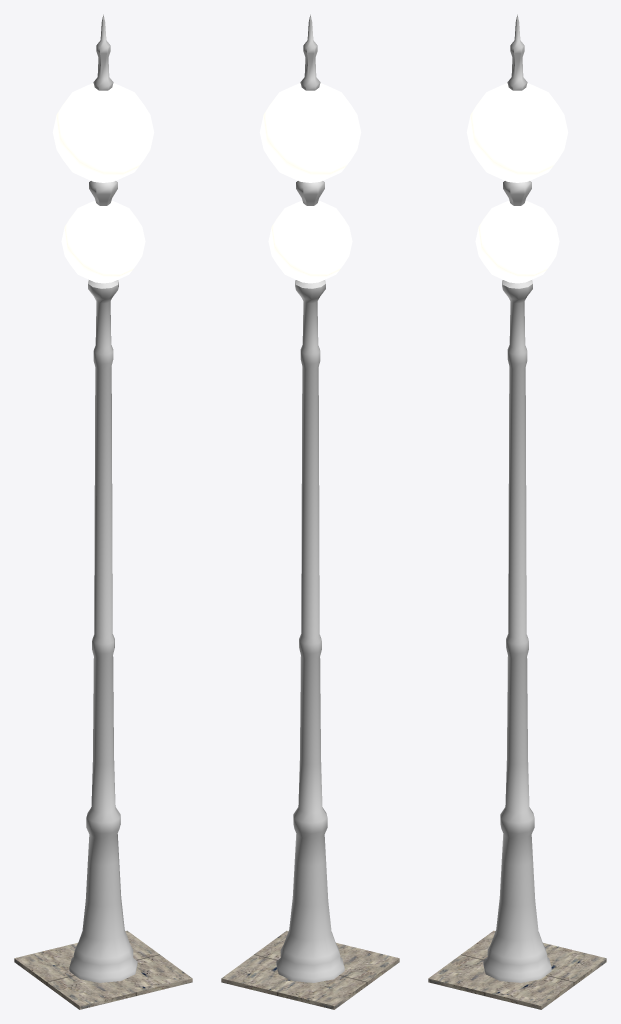
Rendered from SM_Molo_Lampione2Globi_LOD1.fbx.
3 renders of one model, left to right at view 1: azimuth 30°, elevation 25°; view 2: azimuth 150°, elevation 25°; view 3: azimuth 330°, elevation 25°, orthographic.
Parts seen in each view (by area): view 1: SM_Molo_Lampione2Globi_LOD1; view 2: SM_Molo_Lampione2Globi_LOD1; view 3: SM_Molo_Lampione2Globi_LOD1.
Boxes of the visible parts, bbox=[...] form: SM_Molo_Lampione2Globi_LOD1: bbox=[14, 14, 192, 1009]; SM_Molo_Lampione2Globi_LOD1: bbox=[221, 14, 399, 1009]; SM_Molo_Lampione2Globi_LOD1: bbox=[428, 14, 606, 1009].
Size of the model in its own units: 90 by 90 by 729.
3 materials, 1 textured.
